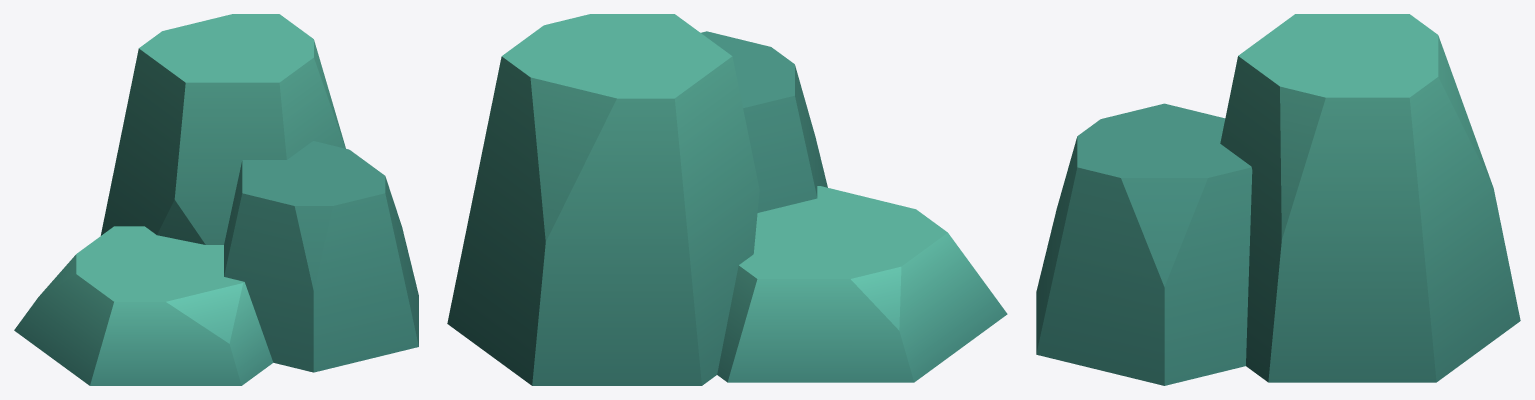
The model's file is rocks.glb.
3 renders of one model, left to right at view 1: azimuth 30°, elevation 25°; view 2: azimuth 150°, elevation 25°; view 3: azimuth 270°, elevation 25°, orthographic. The views are drawn at different scales.
Visible parts, largest first — view 1: rocks; view 2: rocks; view 3: rocks.
Part boxes in pixels (left/top/right/bottom): rocks: left=14, top=14, right=418, bottom=385; rocks: left=447, top=14, right=1007, bottom=385; rocks: left=1036, top=14, right=1520, bottom=385.
Size of the model in its own units: 0.6531 by 0.4 by 0.6623.
